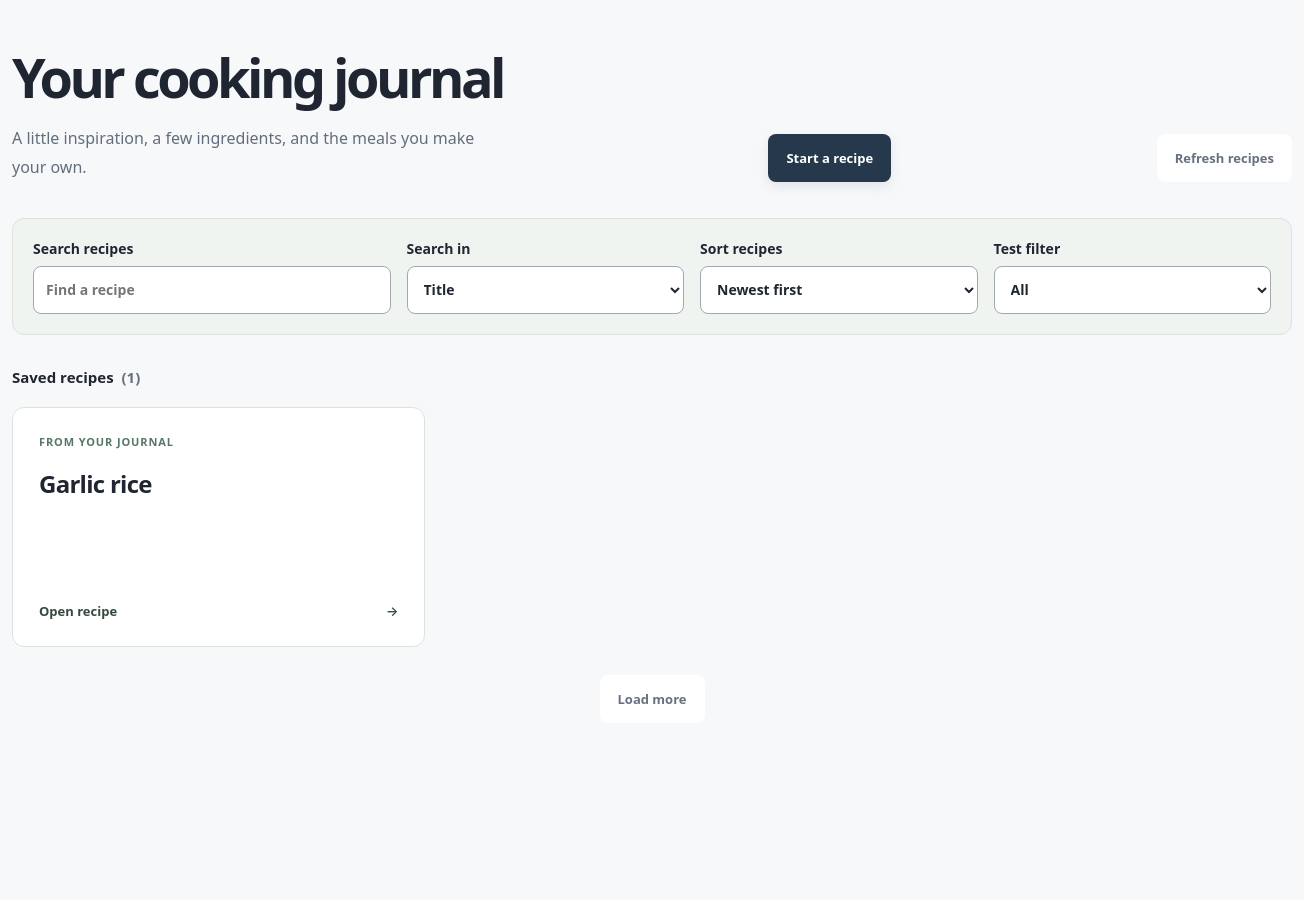
Test: starts at the first page after a sort change and discards previous cards
The width and height of the screenshot is (1304, 900).
Check: the heading "Garlic rice" is shown, box [39,467,152,500]
Click the button "Load more".
click(652, 699)  # box [600,675,704,723]
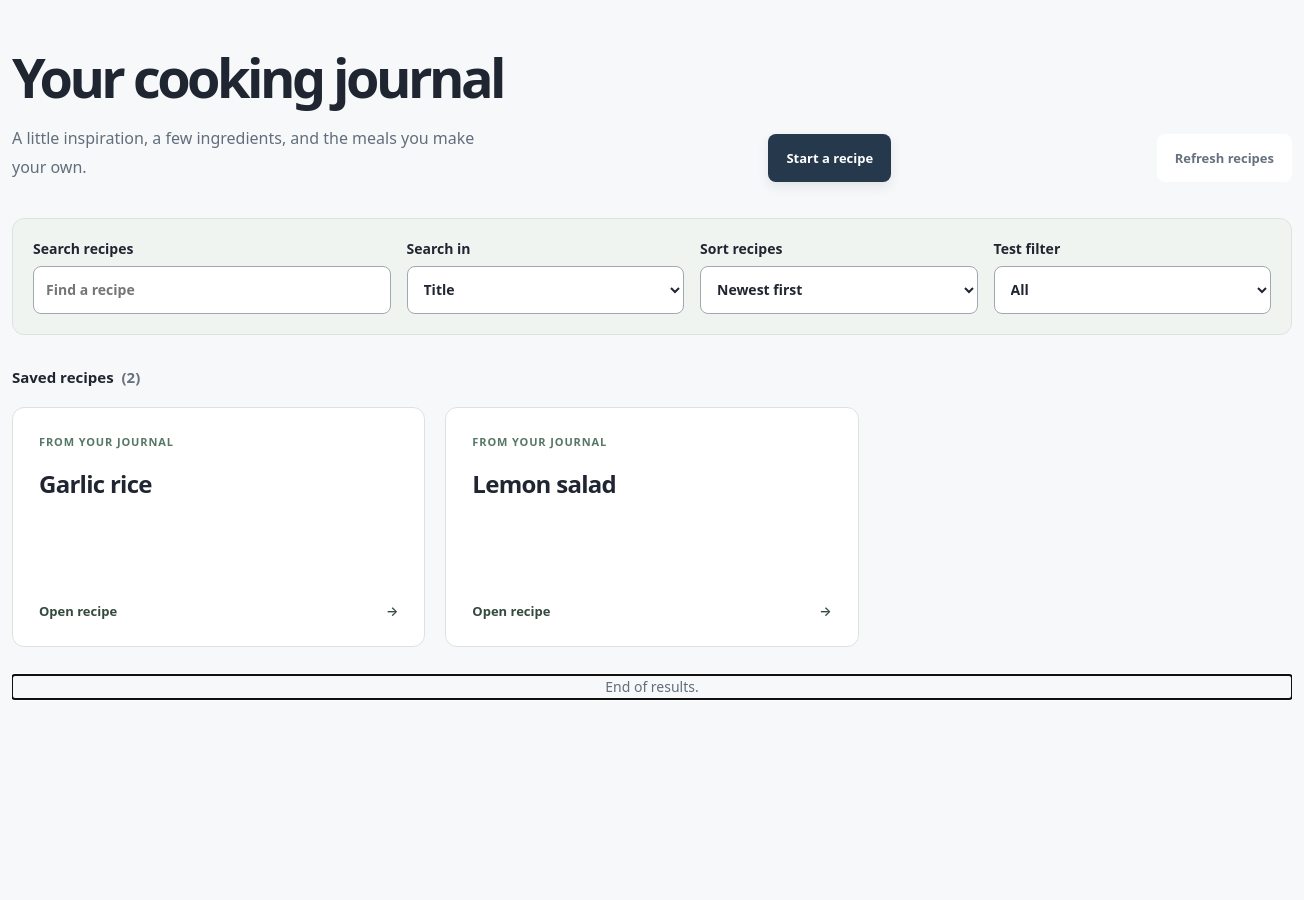
Check: the heading "Lemon salad" is shown, box [472,467,616,500]
Select "Rating" in the dropdown labelled "Sort recipes" at (839, 290), box [700,266,978,314]
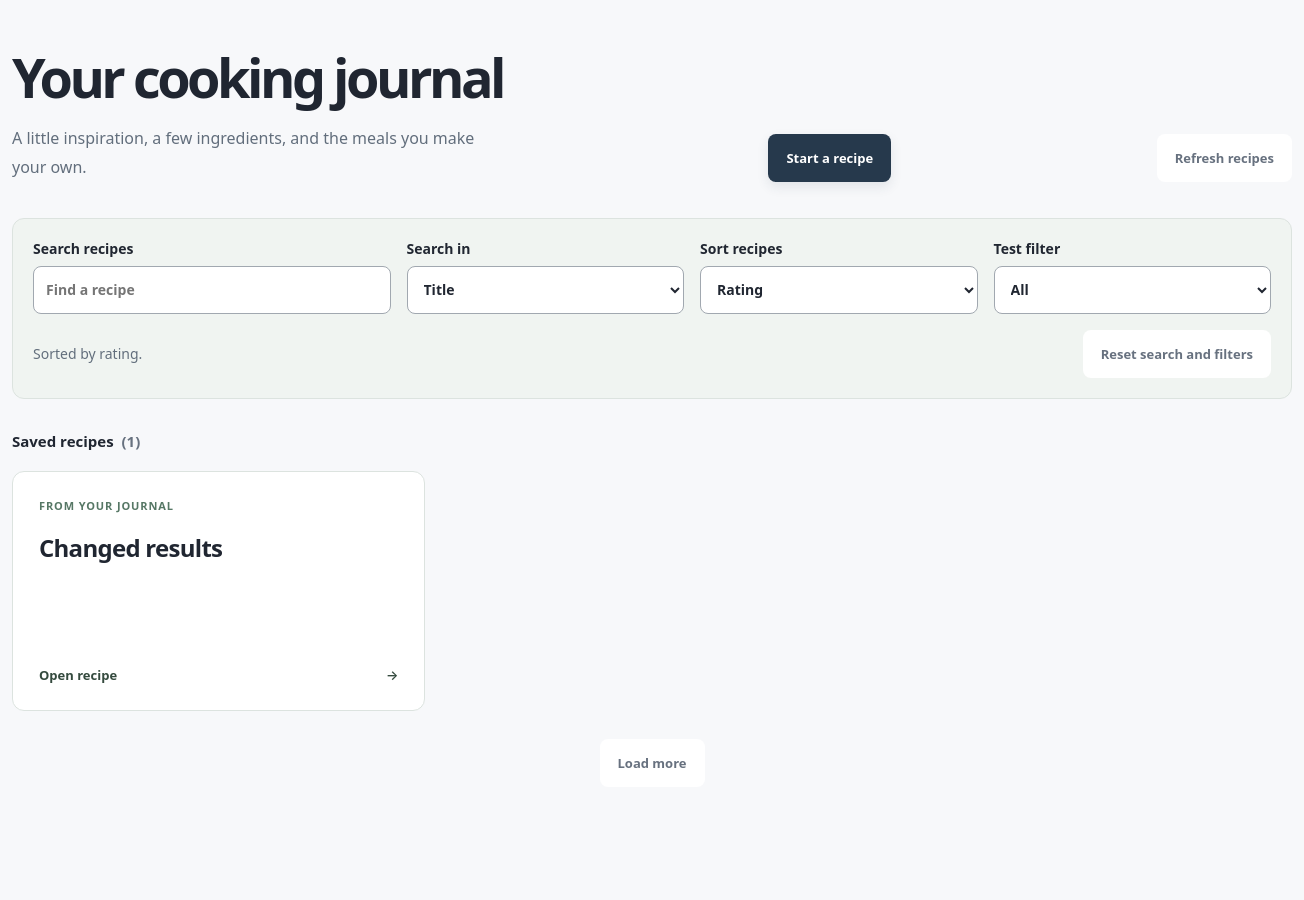
Check: the heading "Changed results" is shown, box [39,531,222,564]
Check: the link "Lemon salad" is gone
